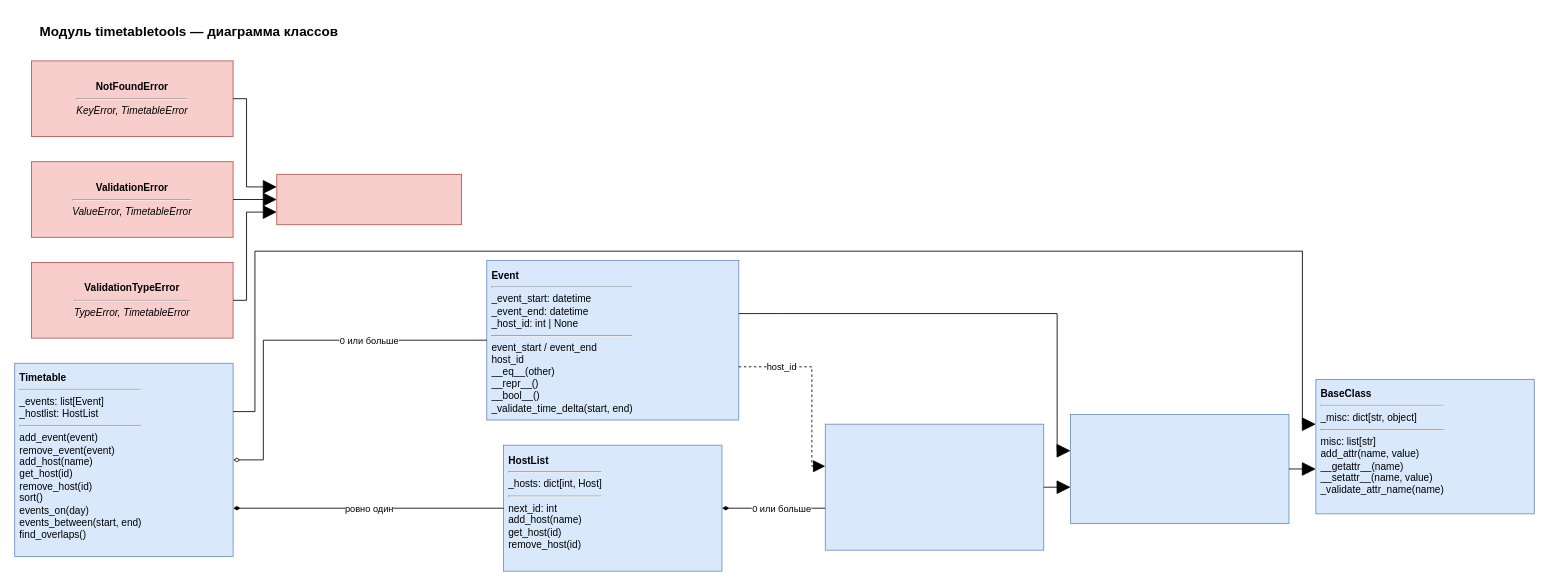
Some shapes in this 1549 by 585 pixel diagram are drawn without their labels. Each missing label, with the centre of its shape:
Host _id: int id: int __bool__() __eq__(other) __repr__() _validate_id(id): point (934, 486)
NamedClass _name: str name: str name.setter _validate_name(name): point (1179, 469)
TimetableError Exception: point (369, 199)
